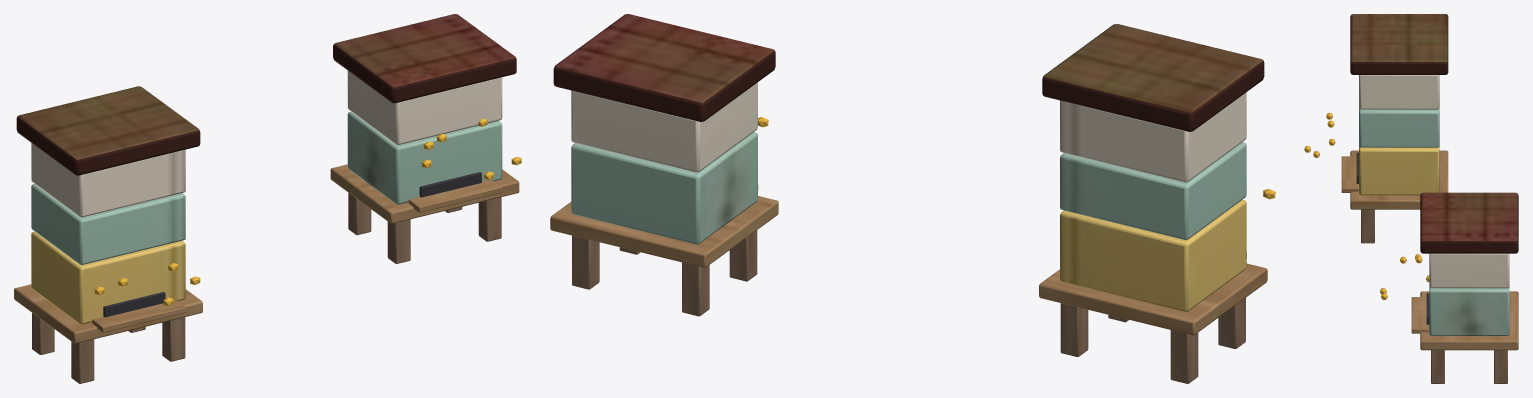
The model's file is unlock-beehive-thu.glb.
3 views of the same model, side by side, from view 1: azimuth 30°, elevation 25°; view 2: azimuth 150°, elevation 25°; view 3: azimuth 270°, elevation 25° (orthographic). The views are drawn at different scales.
Parts seen in each view (by area): view 1: unlock-beehive-static; view 2: unlock-beehive-static; view 3: unlock-beehive-static.
Part boxes in pixels (<box>): unlock-beehive-static: <box>14,14,519,383</box>; unlock-beehive-static: <box>550,14,1267,383</box>; unlock-beehive-static: <box>1341,14,1518,383</box>.
Bounding box in the file's own units: 1.29 × 0.5849 × 0.6111.
14 materials, 12 textured.
